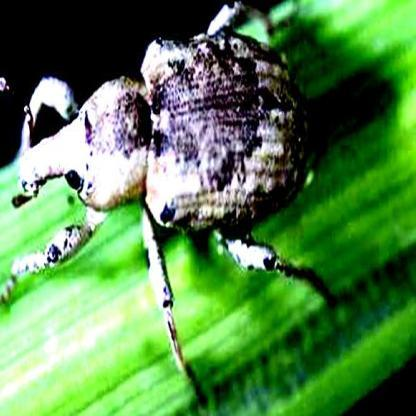rice-bug: (13, 9, 320, 312)
